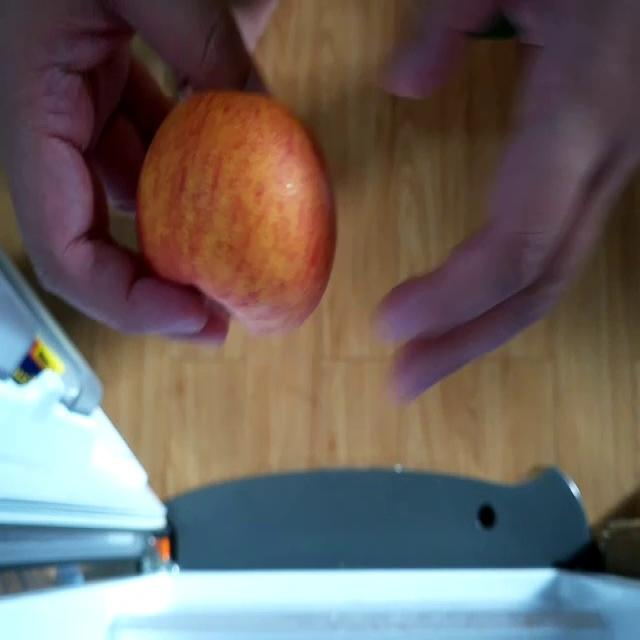apple: (138, 93, 339, 324)
